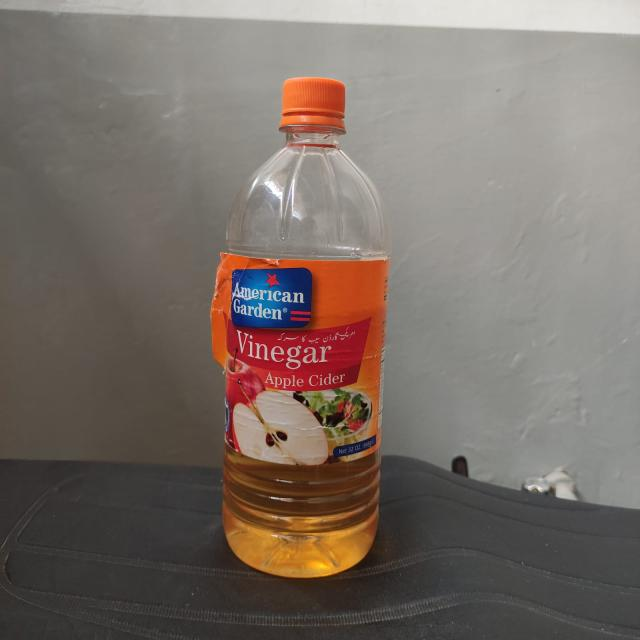bottle: (208, 72, 396, 582)
cap: (274, 76, 352, 140)
label: (220, 248, 384, 460)
